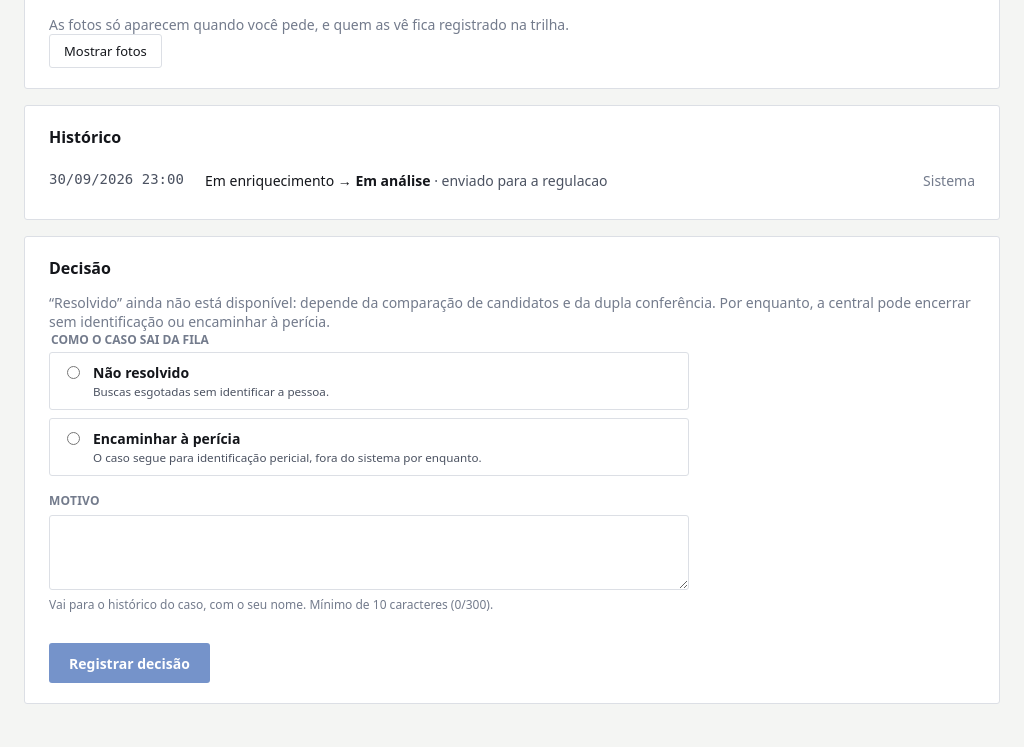
Test: tela do caso: decisão › (!) outra estação decidiu antes: avisa, sem fingir que gravou
This screenshot has width=1024, height=747.
(page scrolled)
Click the radio button labelled "Não resolvido Buscas esgotadas sem identificar a pessoa.": click(74, 372) [67, 366, 80, 379]
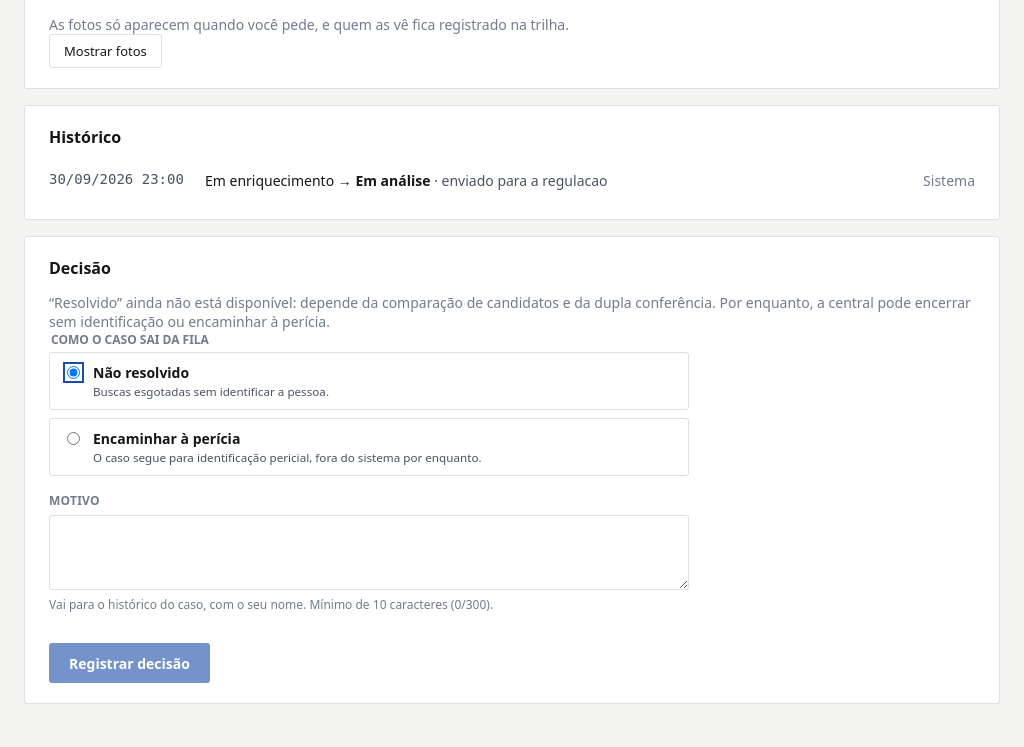
In the text box labelled "Motivo": (369, 552) [49, 515, 689, 590], type "Buscas esgotadas sem candidato."
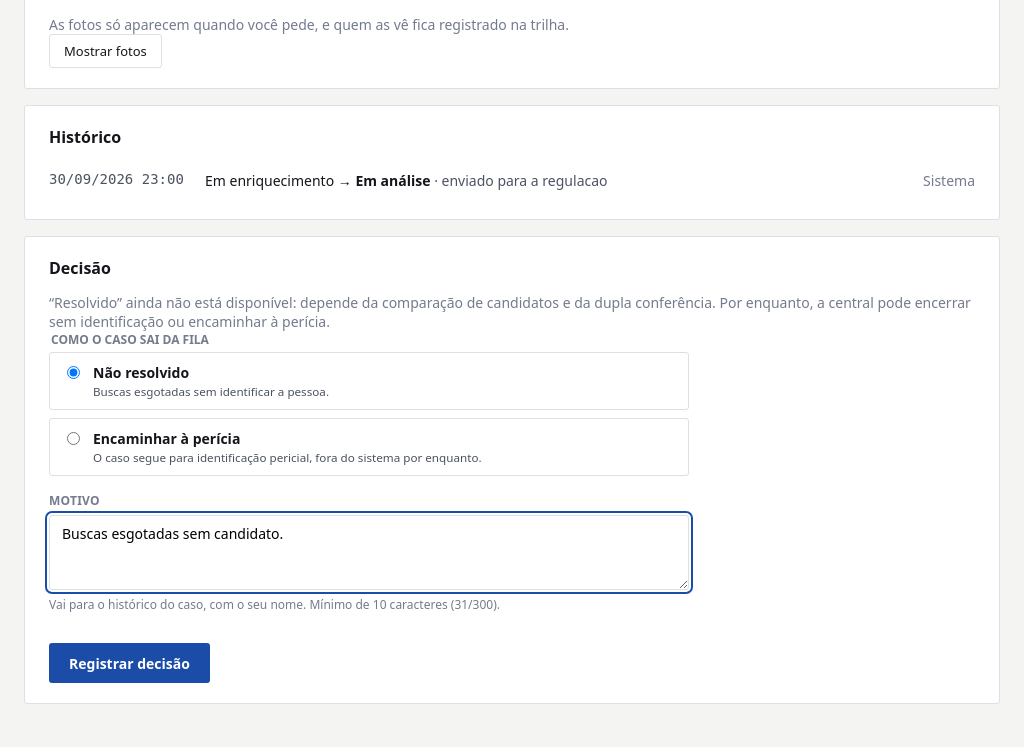
Click the button "Registrar decisão": click(129, 663) [49, 643, 210, 683]
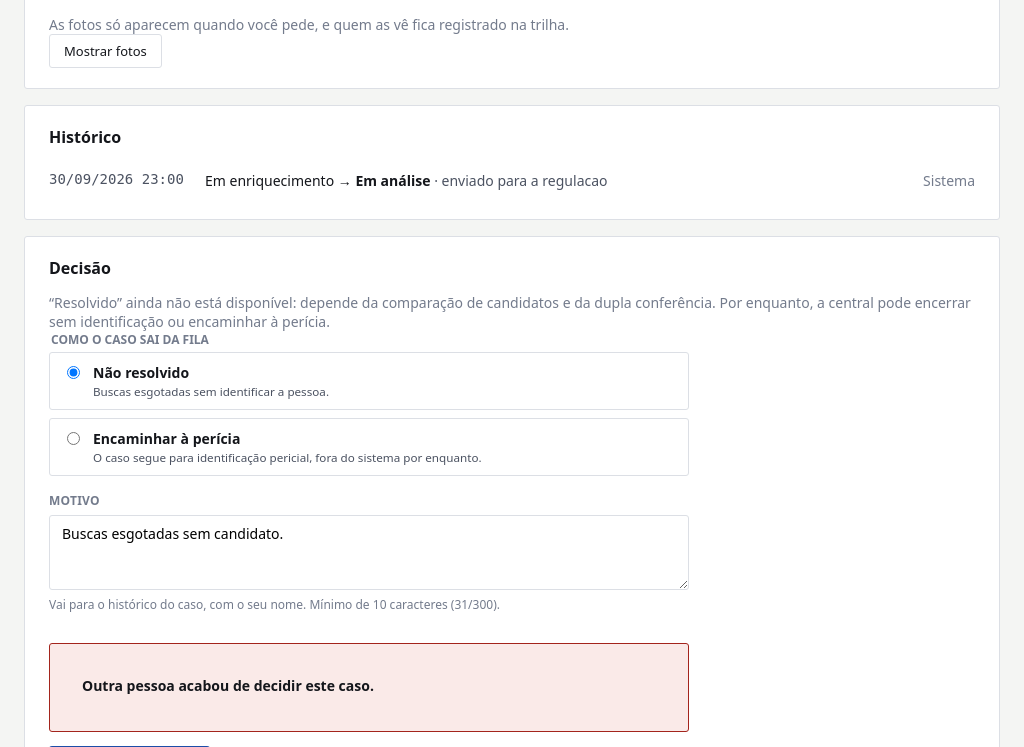
Result: the message reads "Outra pessoa acabou de decidir este caso." at [82, 676, 374, 695]
